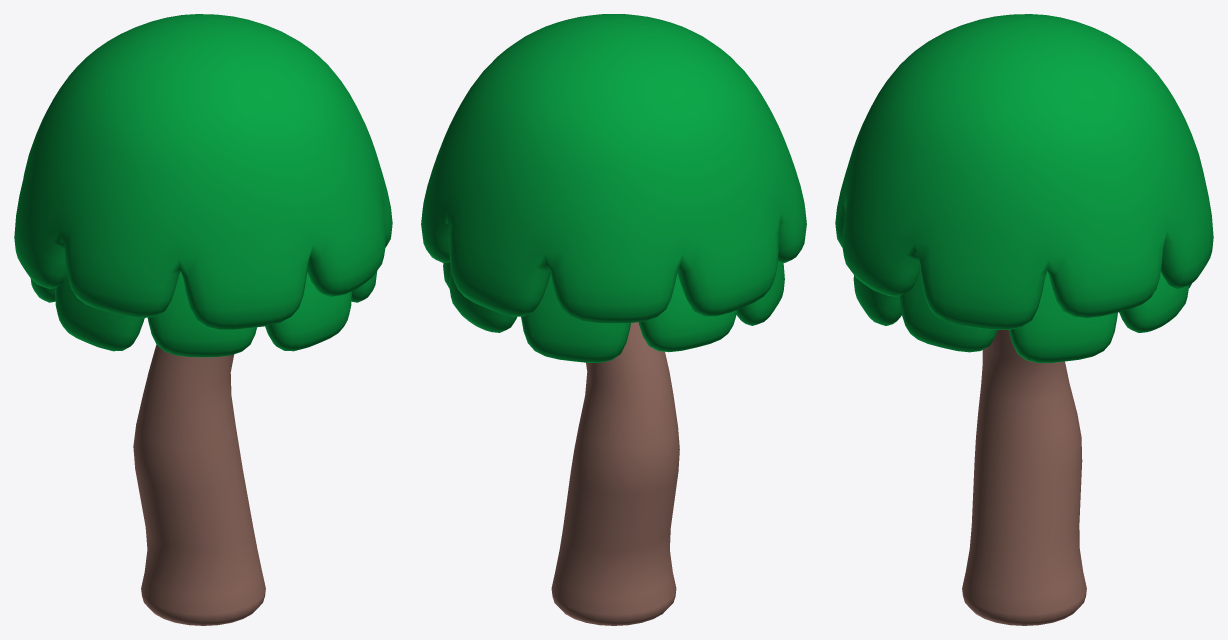
Rendered from Town_20_Tree_1.glb.
3 renders of one model, left to right at view 1: azimuth 30°, elevation 25°; view 2: azimuth 150°, elevation 25°; view 3: azimuth 270°, elevation 25°, orthographic.
Visible parts, largest first — view 1: Town_20_Tree_1; view 2: Town_20_Tree_1; view 3: Town_20_Tree_1.
Part boxes in pixels (<box>): Town_20_Tree_1: <box>14,14,392,625</box>; Town_20_Tree_1: <box>421,14,806,625</box>; Town_20_Tree_1: <box>835,14,1213,625</box>.
Size of the model in its own units: 4.16 by 6.94 by 4.16.
1 material, 1 textured.
